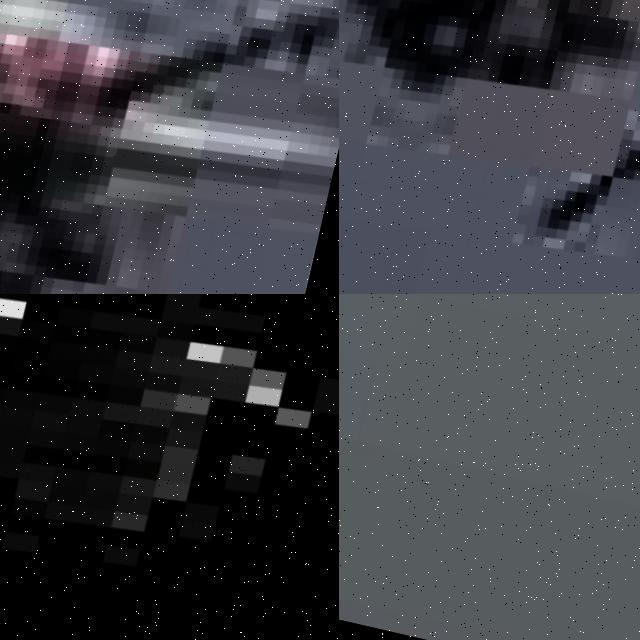drone: (0, 294, 339, 640), (0, 0, 339, 294), (339, 0, 640, 294)
